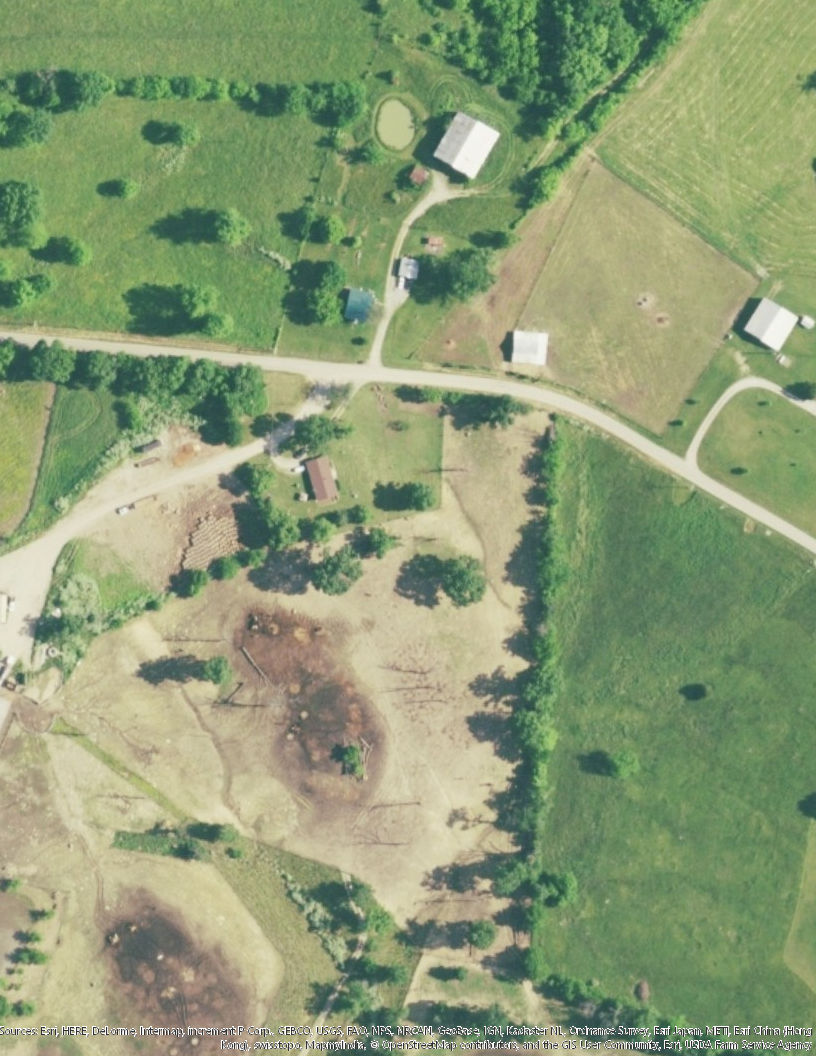cafo: (433, 110, 502, 183)
